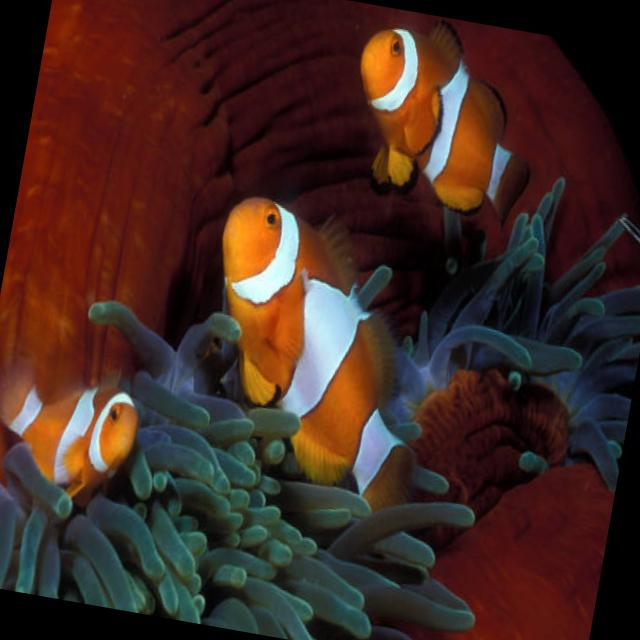ClownFish: (173, 183, 462, 518), (339, 9, 554, 227), (0, 351, 148, 508)
